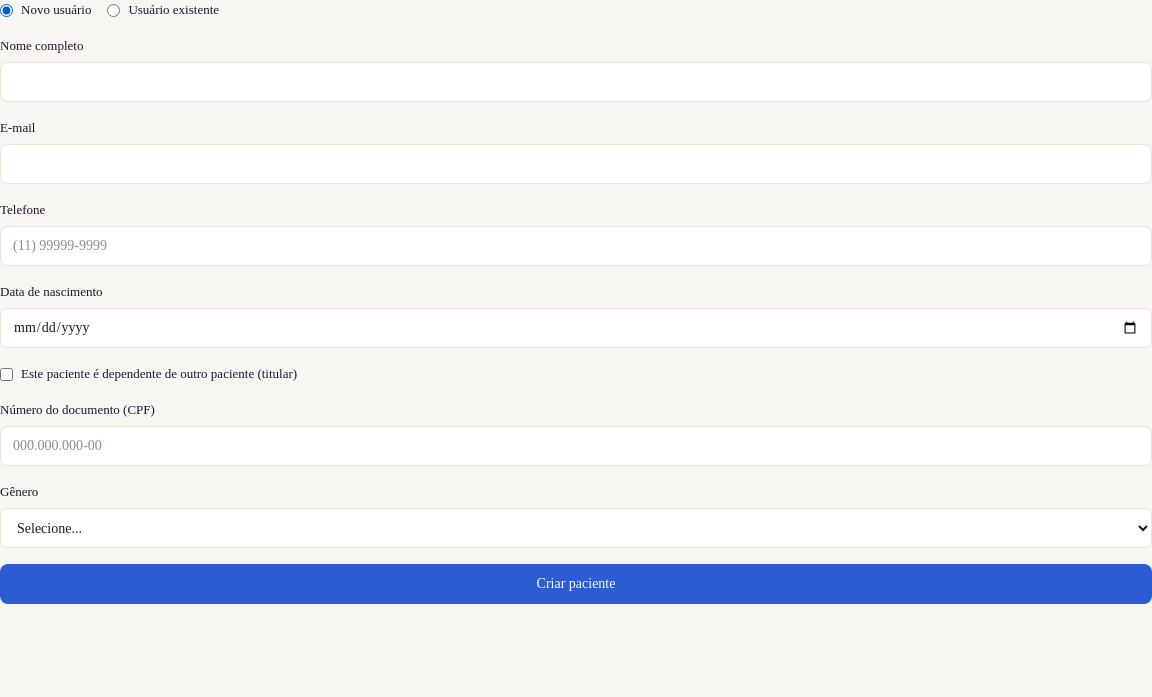
it: PatientForm (integration) — create mode › shows validation errors for empty required fields in new user mode
Click the radio button with test id "patient-form-user-mode-new".
click(6, 10)  # box [0, 4, 13, 16]
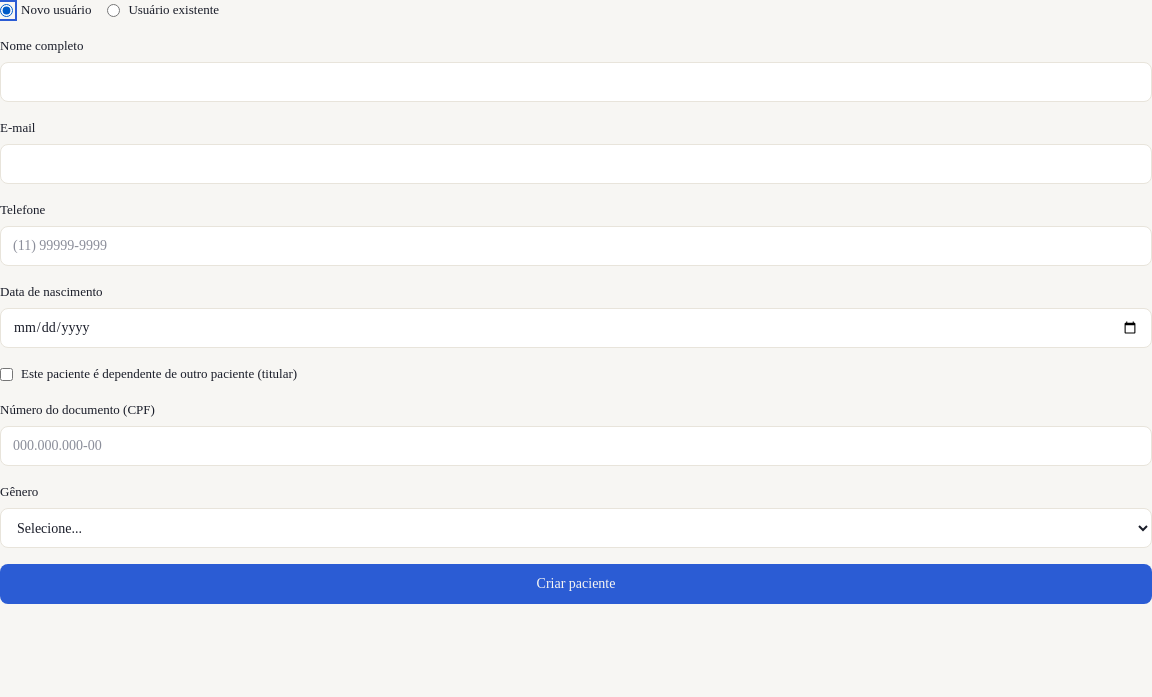
Click the button with test id "patient-form-submit".
click(576, 584)  # box [0, 564, 1151, 604]
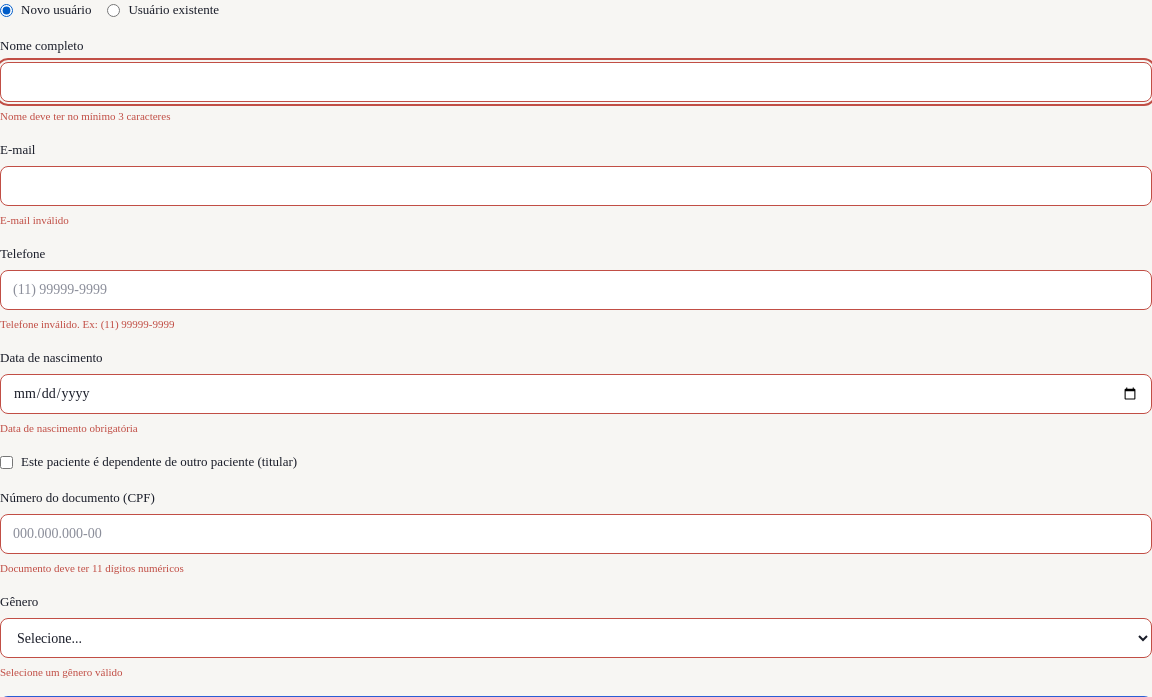
expect the text "Nome deve ter no mínimo 3 caracteres" is shown: met, box [0, 110, 170, 122]
